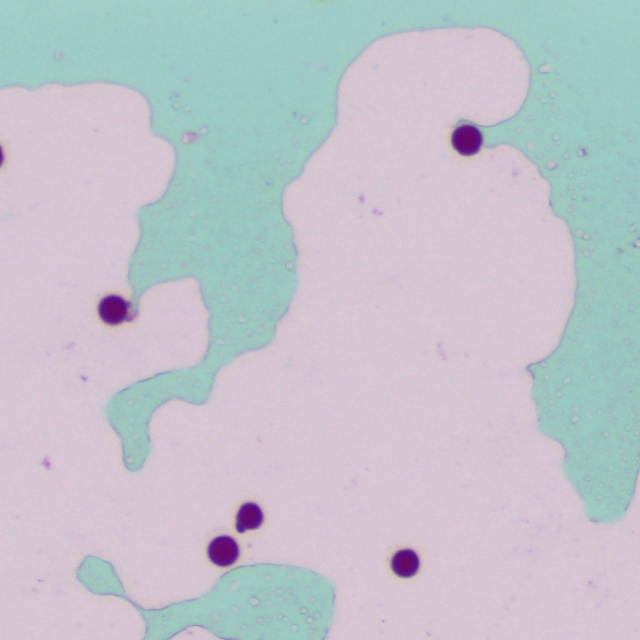viable: (452, 126, 482, 155), (209, 537, 238, 566), (99, 296, 128, 324), (237, 503, 263, 532), (392, 550, 419, 577)
